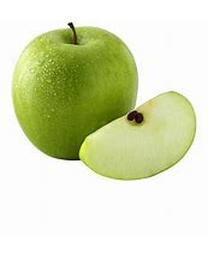apple: (11, 22, 138, 160), (78, 90, 197, 179)
